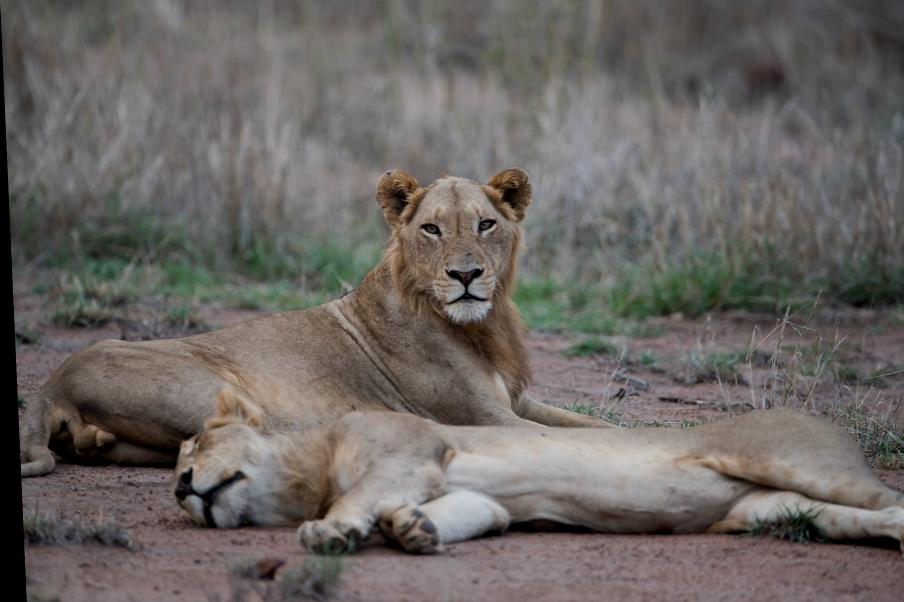lioness: (6, 168, 641, 499)
